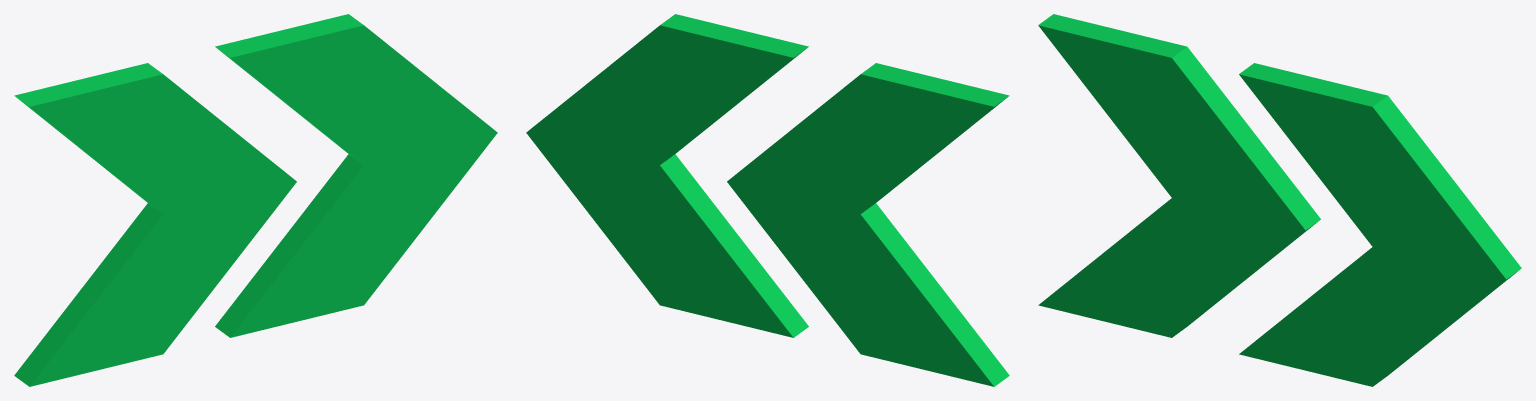
The model's file is Speedter.obj.
3 views of the same model, side by side, from view 1: azimuth 30°, elevation 25°; view 2: azimuth 150°, elevation 25°; view 3: azimuth 330°, elevation 25° (orthographic).
Parts seen in each view (by area): view 1: Plane.002_Plane.003; view 2: Plane.002_Plane.003; view 3: Plane.002_Plane.003.
Part boxes in pixels (x1,y1,x2,y2): Plane.002_Plane.003: (14, 14, 497, 386); Plane.002_Plane.003: (526, 14, 1009, 386); Plane.002_Plane.003: (1038, 14, 1521, 386).
Size of the model in its own units: 1.4 by 0.8 by 0.08.
